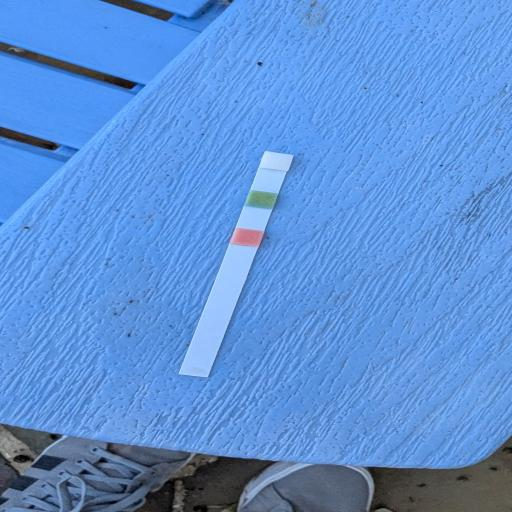strip: (177, 151, 296, 378)
